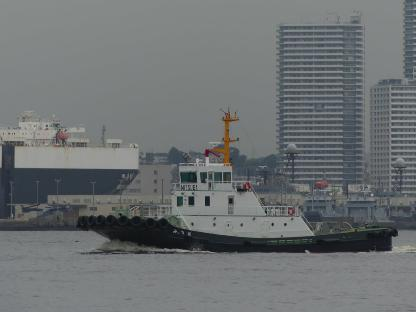Tornado: (20, 202, 72, 216)
